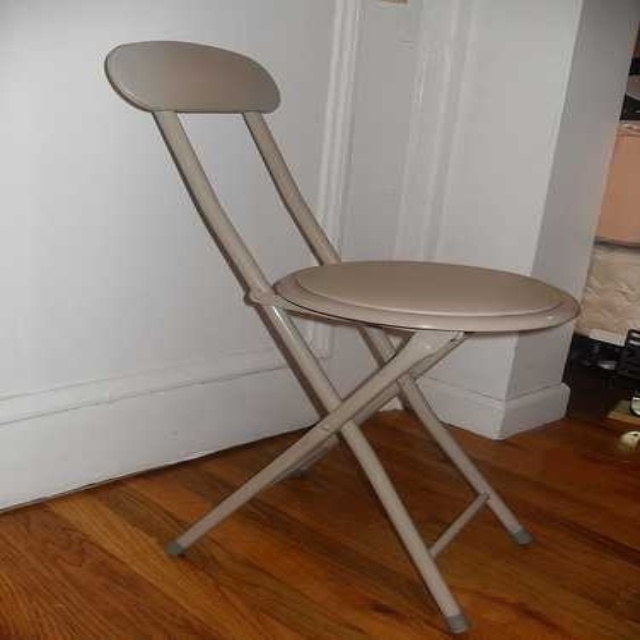obstacle: (104, 41, 577, 632)
